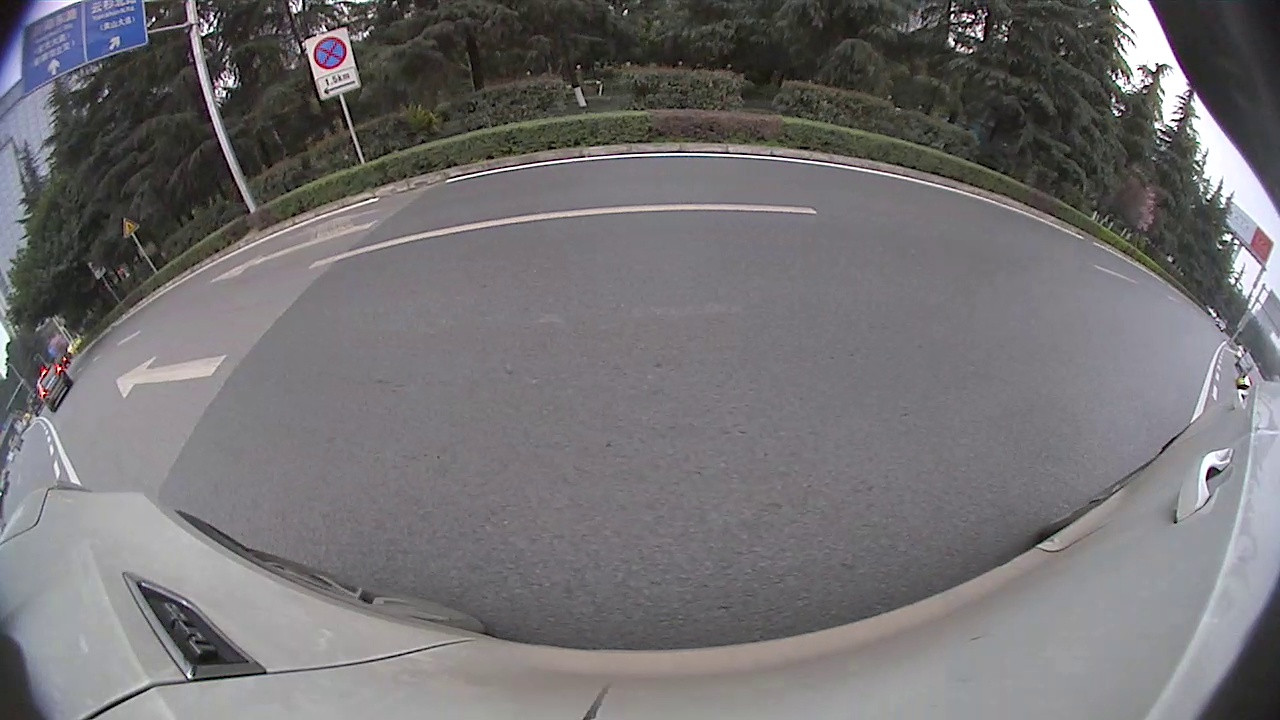car: (34, 362, 74, 415)
